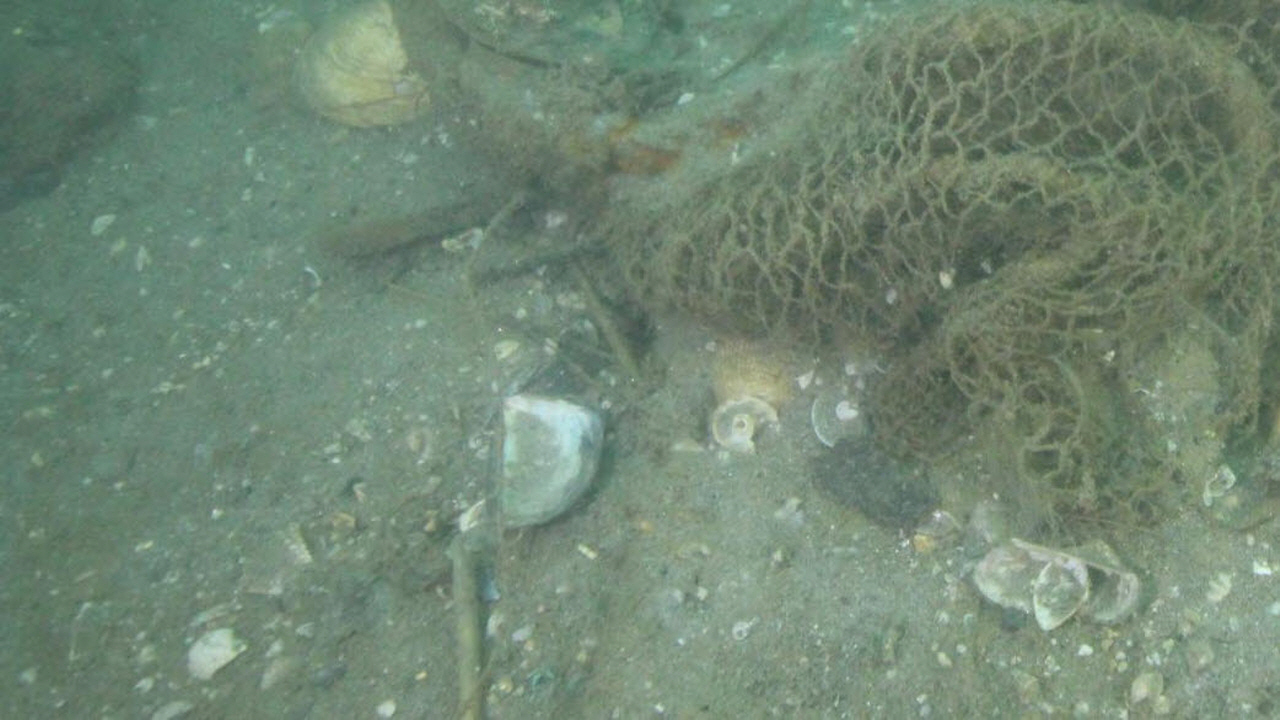fish net: (670, 0, 1280, 388)
